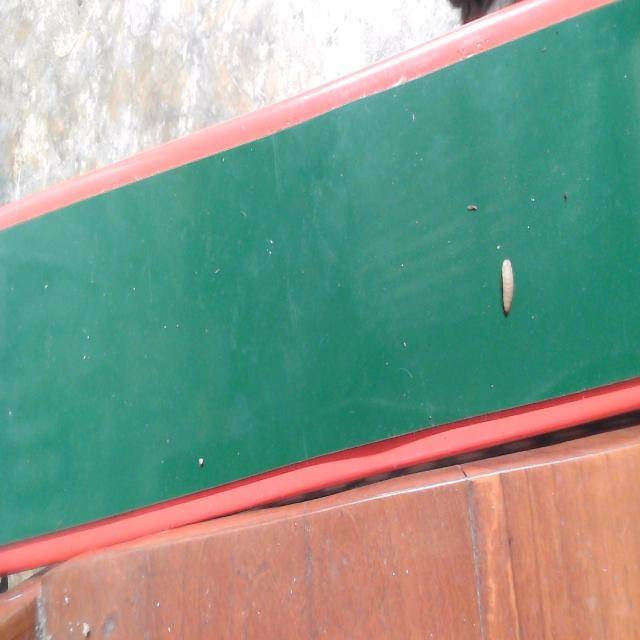Maggot: (499, 258, 518, 318)
